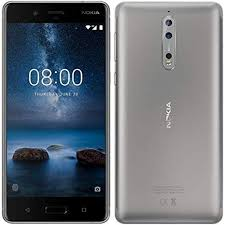nokia: (115, 1, 224, 225), (1, 1, 108, 225)
